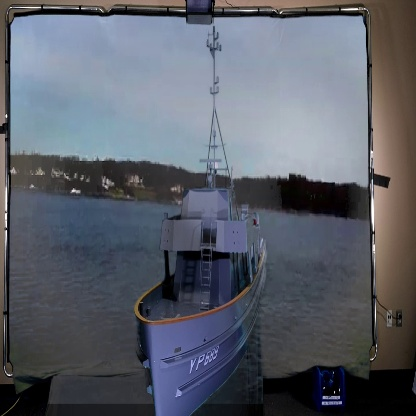YP689: (130, 30, 270, 415)
